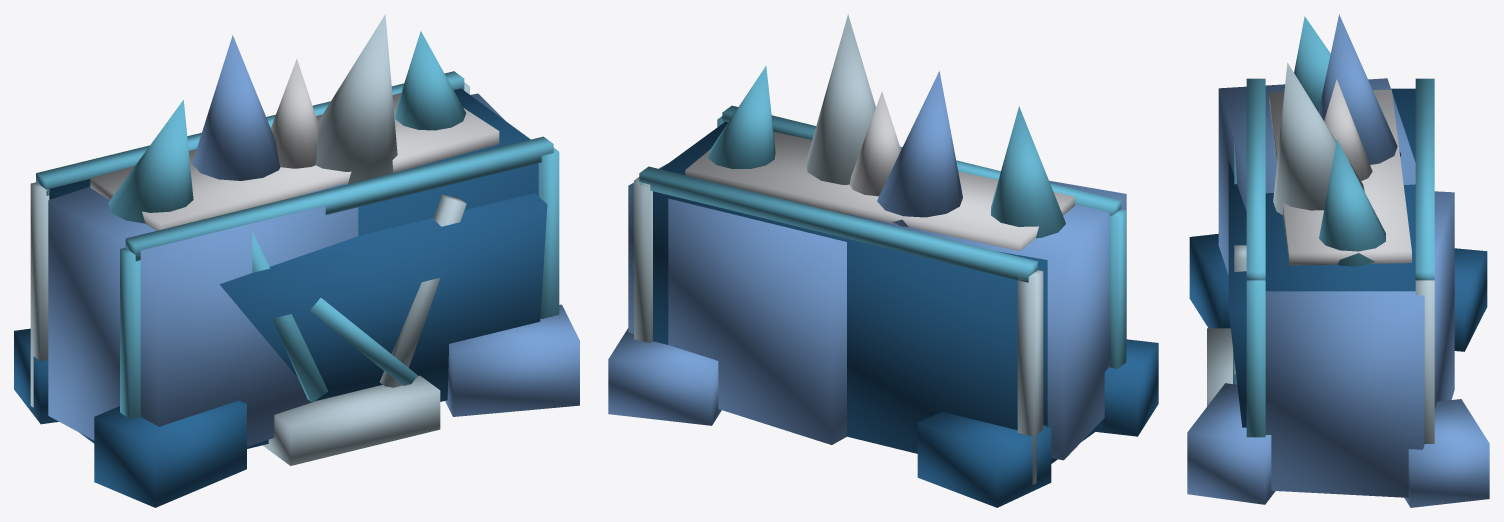
Rendered from ice_block.glb.
The picture shows the model from 3 angles, left to right: view 1: azimuth 30°, elevation 25°; view 2: azimuth 150°, elevation 25°; view 3: azimuth 270°, elevation 25°; orthographic projection. The views are drawn at different scales.
Parts seen in each view (by area): view 1: ice_block; view 2: ice_block; view 3: ice_block.
Part boxes in pixels (x1,y1,x2,y2): ice_block: (14,14,579,507); ice_block: (608,14,1158,507); ice_block: (1187,14,1489,507).
Bounding box in the file's own units: 3.78 × 2.97 × 2.22.
